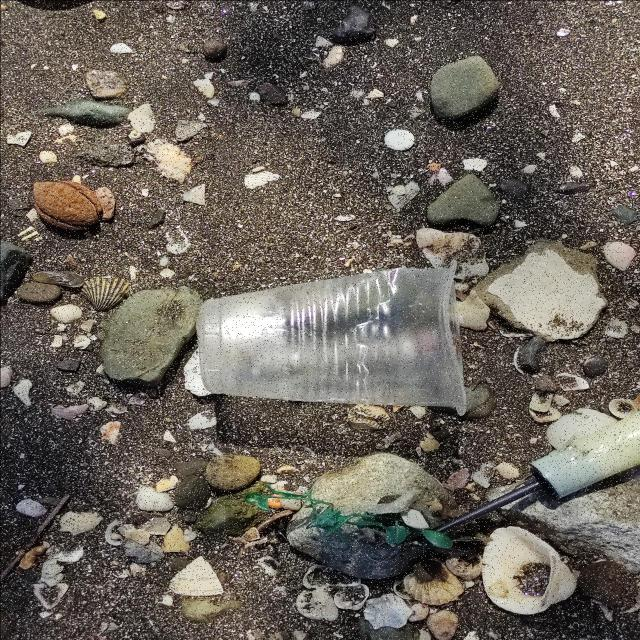plastic_waste: (194, 264, 462, 409)
